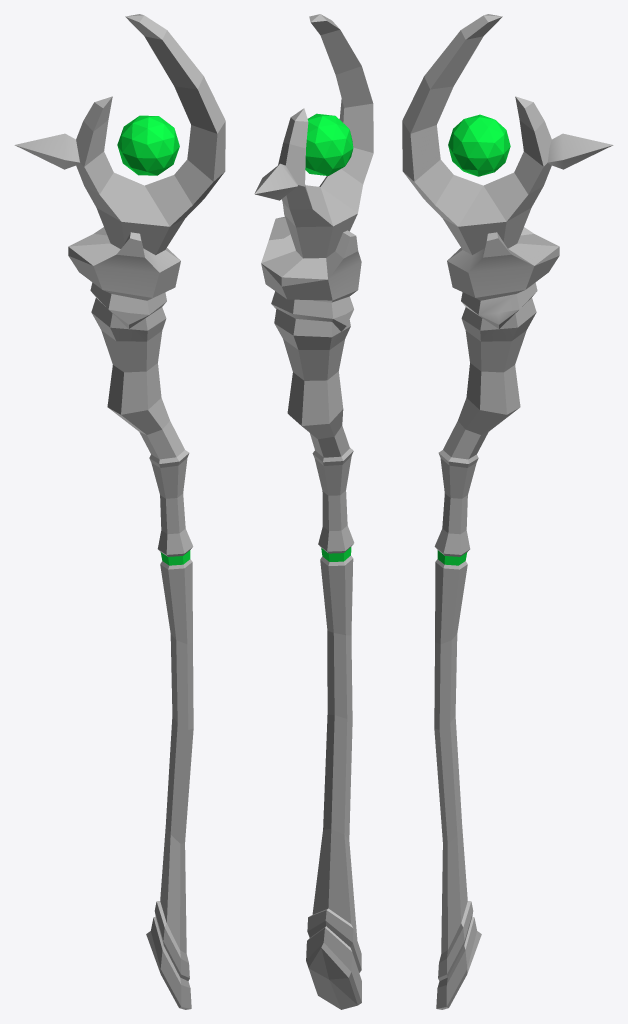
File: SM_Wep_Staff_Gem_01_colour.fbx
The picture shows the model from 3 angles, left to right: view 1: azimuth 90°, elevation 25°; view 2: azimuth 150°, elevation 25°; view 3: azimuth 270°, elevation 25°; orthographic projection.
Parts seen in each view (by area): view 1: SM_Wep_Staff_Gem_01; view 2: SM_Wep_Staff_Gem_01; view 3: SM_Wep_Staff_Gem_01.
Part boxes in pixels (bbox=[...]): SM_Wep_Staff_Gem_01: bbox=[14, 14, 225, 1009]; SM_Wep_Staff_Gem_01: bbox=[254, 14, 373, 1009]; SM_Wep_Staff_Gem_01: bbox=[402, 14, 613, 1009].
Bounding box in the file's own units: 15.08 × 194 × 37.48.
